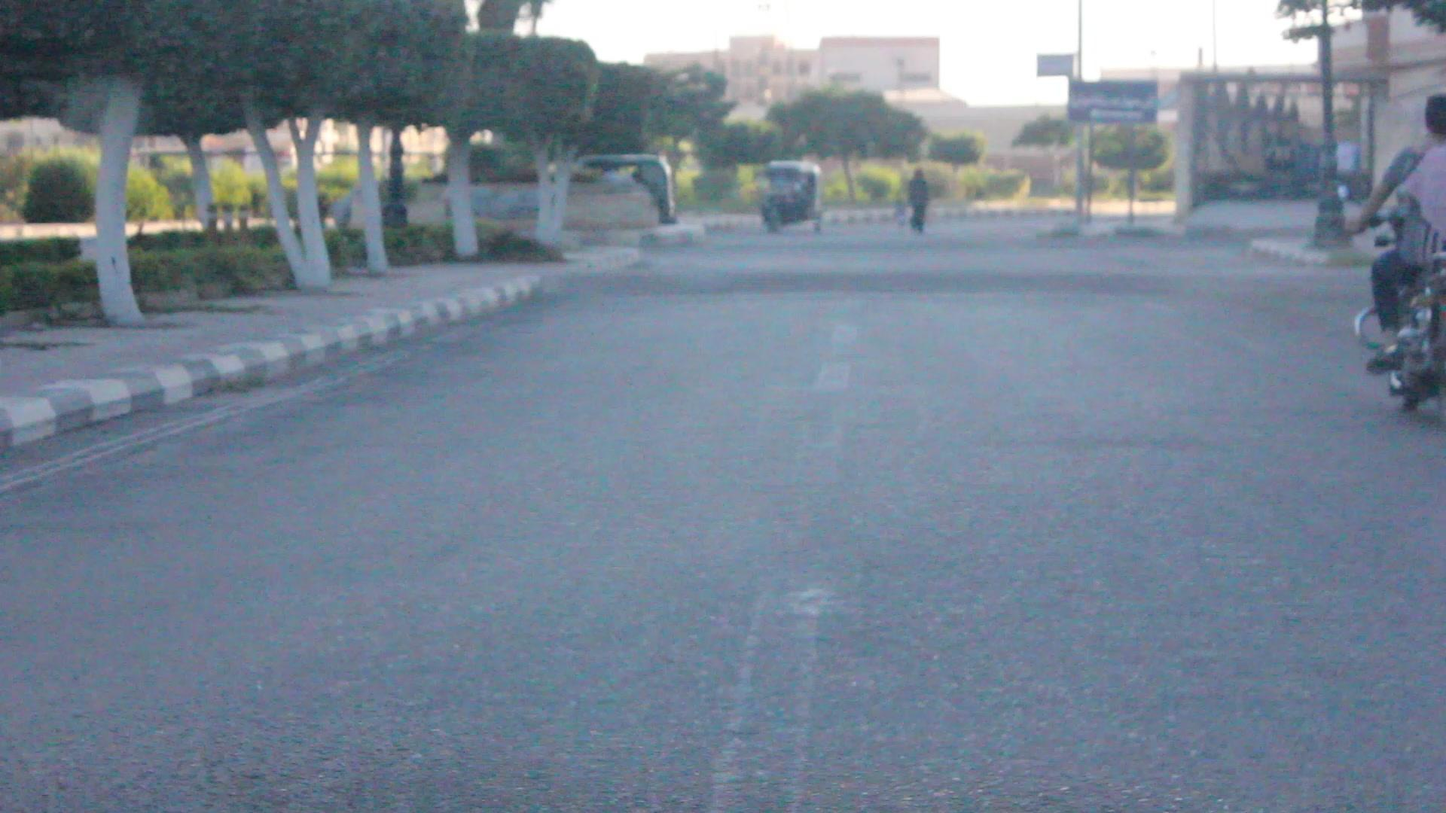Bump: (595, 254, 1182, 294)
